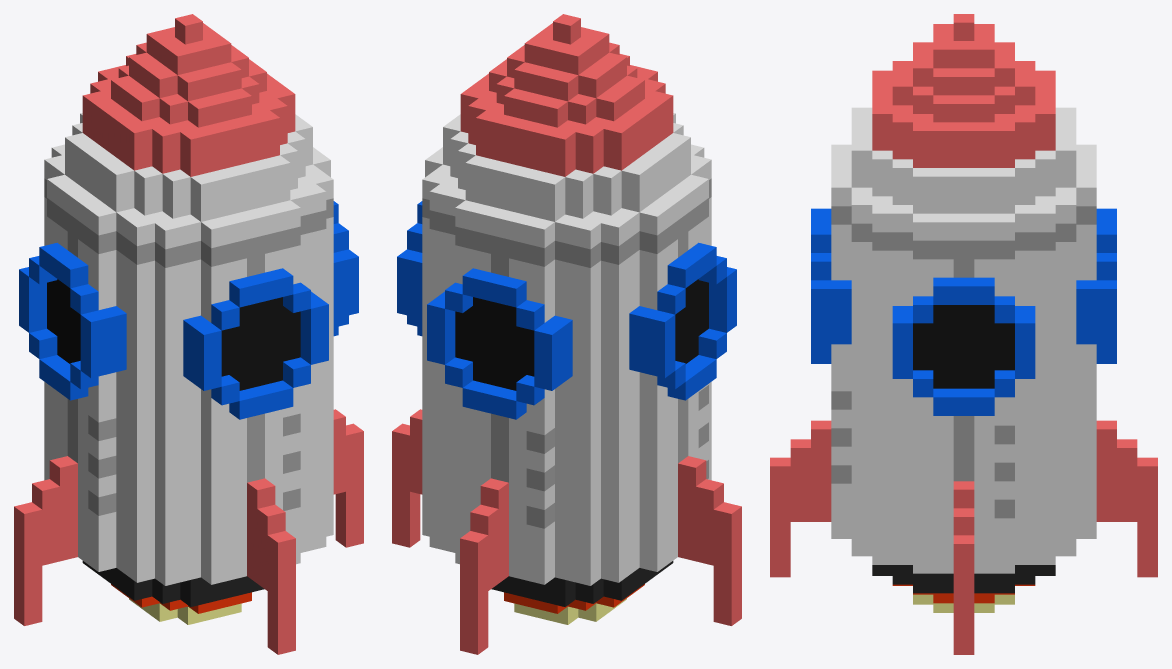
File: objeto_nave.obj
The picture shows the model from 3 angles, left to right: view 1: azimuth 30°, elevation 25°; view 2: azimuth 150°, elevation 25°; view 3: azimuth 270°, elevation 25°; orthographic projection.
Size of the model in its own units: 1.9 by 3.1 by 1.9.
Materials: 1 (1 with a texture image).
